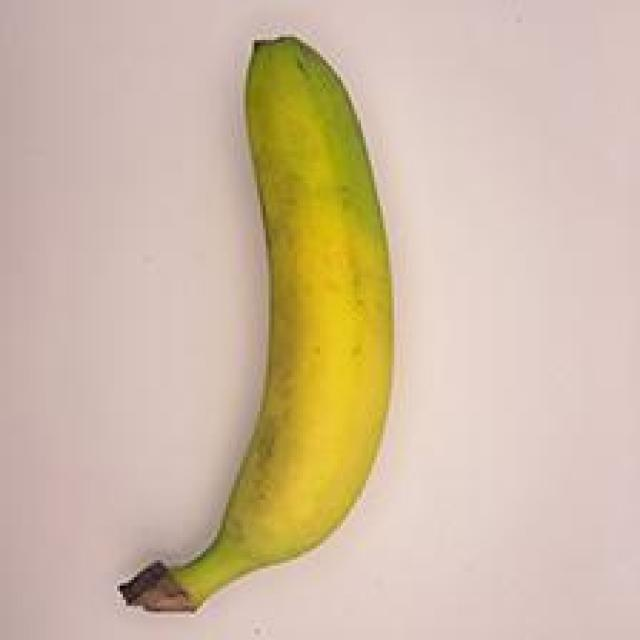unripe: (112, 8, 444, 622)
